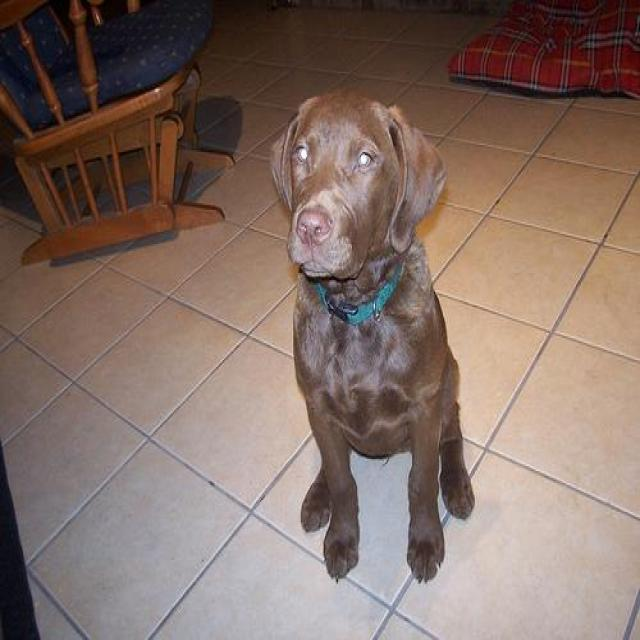sitting: (261, 87, 480, 585)
